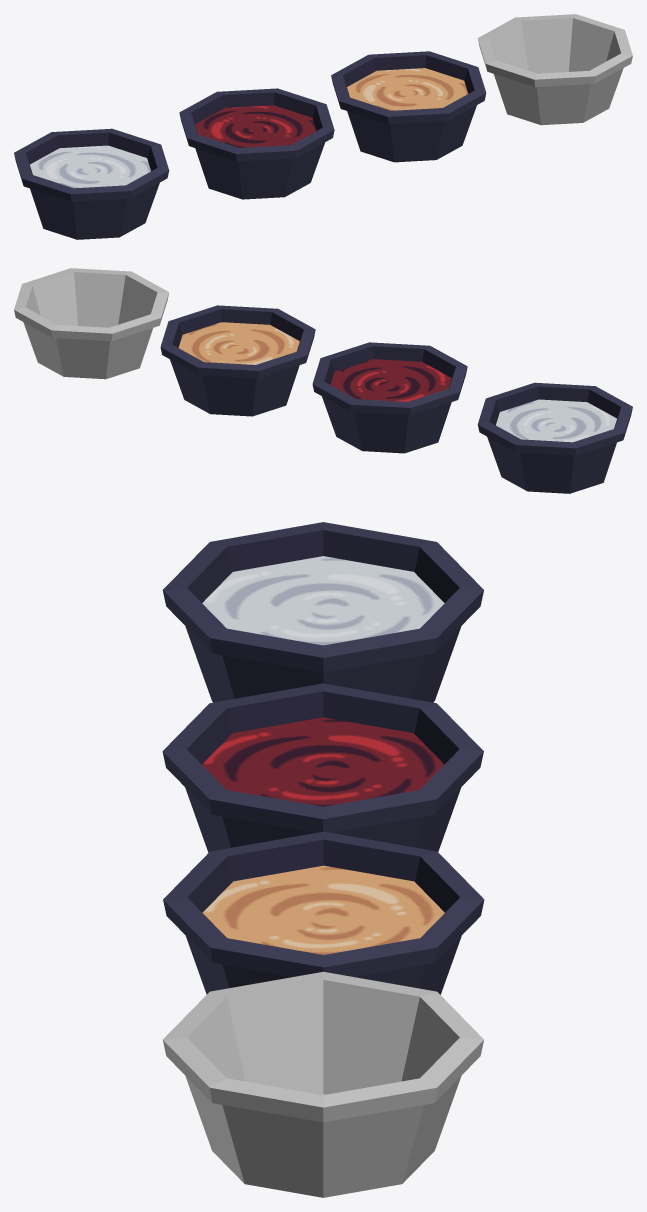
The model's file is f_saucecontainers_02 (1).fbx.
3 views of the same model, one above another, from view 1: azimuth 30°, elevation 25°; view 2: azimuth 150°, elevation 25°; view 3: azimuth 270°, elevation 25° (orthographic). The views are drawn at different scales.
Visible parts, largest first — view 1: f_saucecontainer_05, f_saucecontainer_empty_02, f_saucecontainer_04, f_saucecontainer_06; view 2: f_saucecontainer_06, f_saucecontainer_05, f_saucecontainer_04, f_saucecontainer_empty_02; view 3: f_saucecontainer_empty_02, f_saucecontainer_04, f_saucecontainer_05, f_saucecontainer_06.
Boxes of the visible parts, bbox=[...] form: f_saucecontainer_05: bbox=[179, 88, 334, 199]; f_saucecontainer_empty_02: bbox=[477, 14, 632, 125]; f_saucecontainer_04: bbox=[14, 128, 169, 239]; f_saucecontainer_06: bbox=[331, 51, 486, 162]; f_saucecontainer_06: bbox=[160, 305, 315, 416]; f_saucecontainer_05: bbox=[312, 342, 467, 453]; f_saucecontainer_04: bbox=[477, 382, 632, 493]; f_saucecontainer_empty_02: bbox=[14, 268, 169, 379]; f_saucecontainer_empty_02: bbox=[163, 971, 483, 1197]; f_saucecontainer_04: bbox=[162, 522, 483, 702]; f_saucecontainer_05: bbox=[162, 683, 483, 852]; f_saucecontainer_06: bbox=[163, 831, 484, 994].
Bounding box in the file's own units: 0.8796 × 0.2034 × 0.081.
